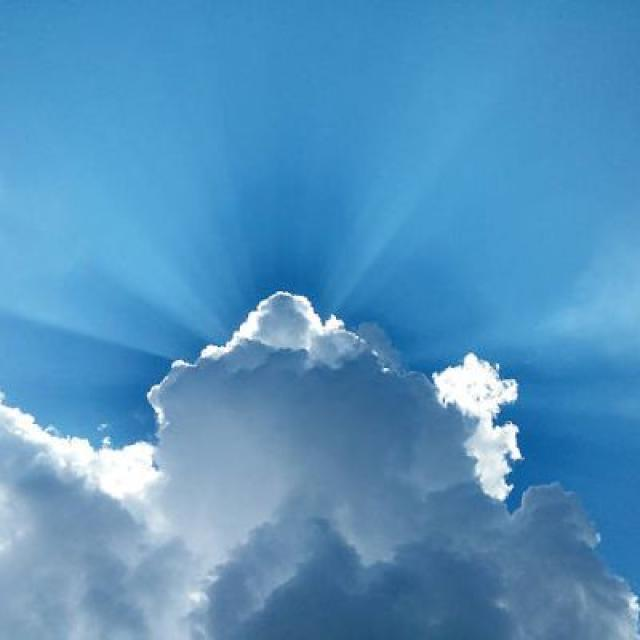As: (1, 270, 640, 640)
